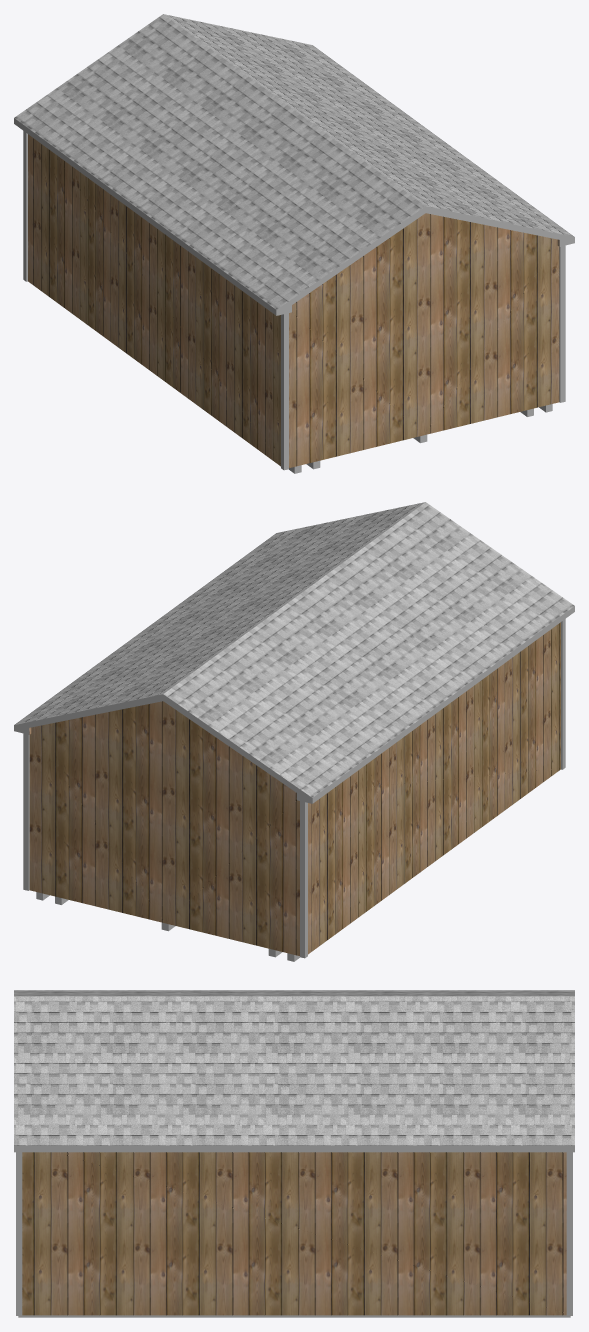
File: Single Garage A-frame_14x22.obj
3 views of the same model, one above another, from view 1: azimuth 30°, elevation 25°; view 2: azimuth 150°, elevation 25°; view 3: azimuth 270°, elevation 25° (orthographic). The views are drawn at different scales.
Visible parts, largest first — view 1: Shed, Roof, Sides, Trim; view 2: Shed, Roof, Sides, Trim; view 3: Shed, Roof, Sides, Trim, Floor.
Part boxes in pixels (x1,y1,x2,y2): Shed: (28,134,559,467); Roof: (14,14,574,309); Sides: (14,118,574,315); Trim: (23,131,565,470); Shed: (29,622,560,955); Roof: (14,502,574,797); Sides: (14,606,574,803); Trim: (23,619,565,958); Shed: (22,1152,566,1315); Roof: (14,990,574,1145); Sides: (14,1146,574,1152); Trim: (16,1152,572,1315); Floor: (18,1315,570,1317).
Bounding box in the file's own units: 4.47 × 3.4 × 6.81.
